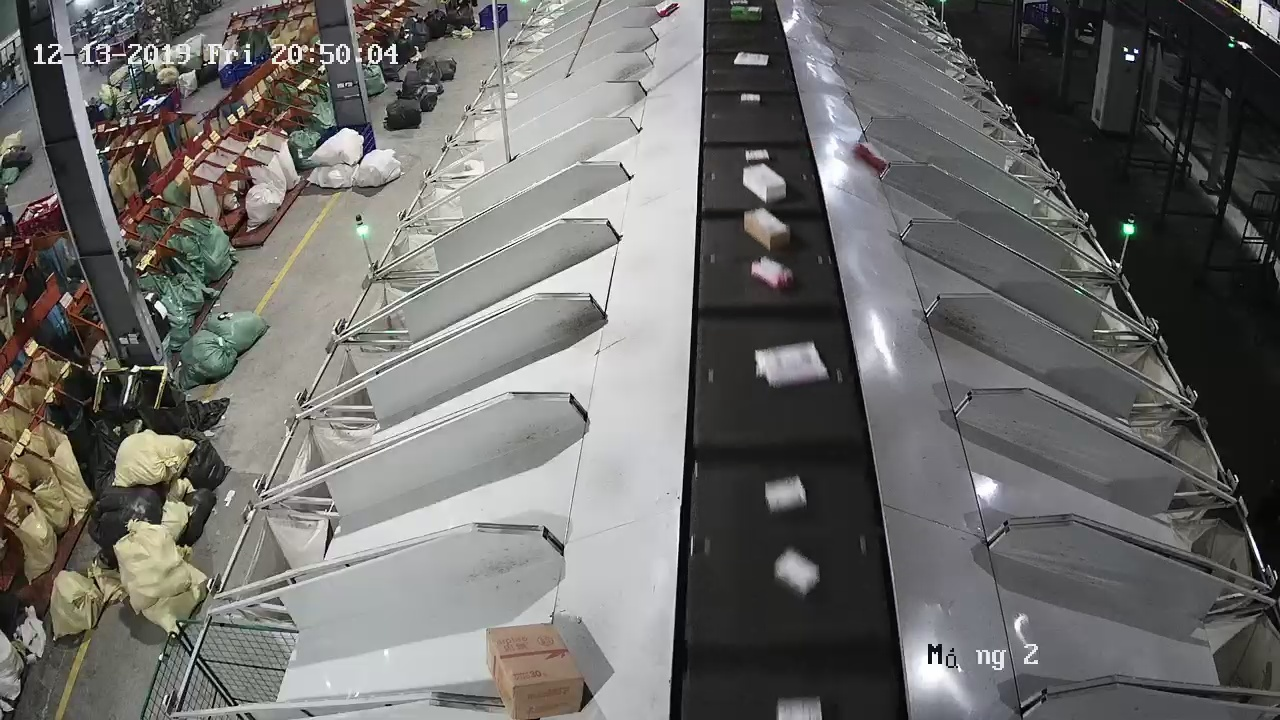parcel: (853, 139, 886, 168)
